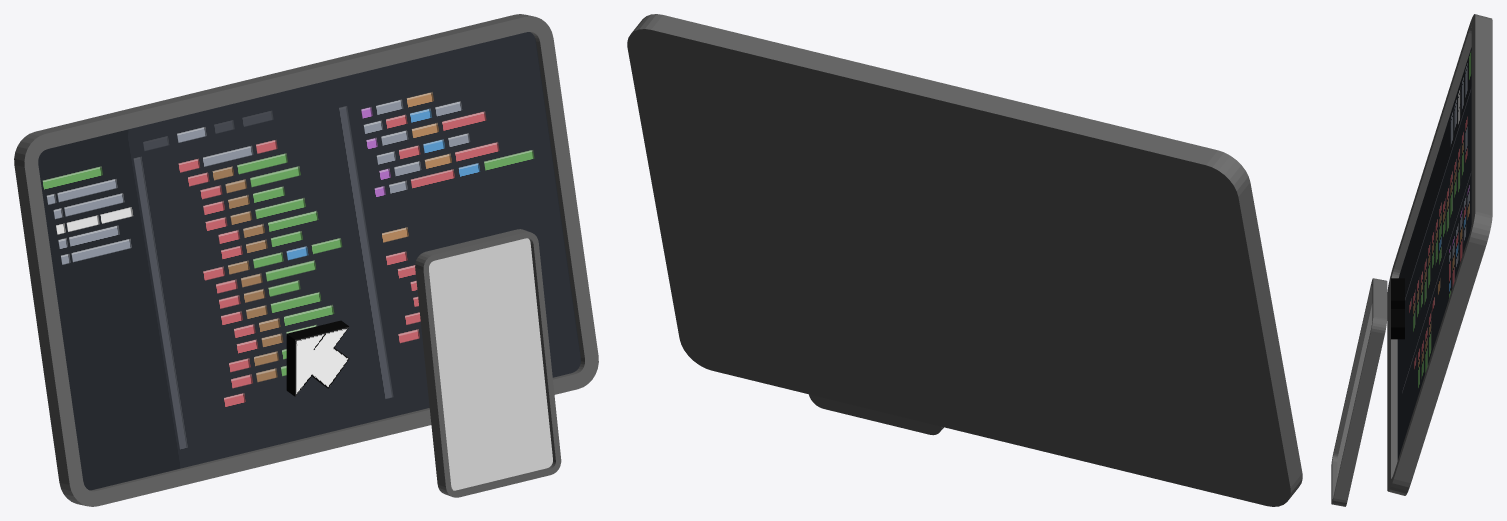
File: all2.glb
The picture shows the model from 3 angles, left to right: view 1: azimuth 30°, elevation 25°; view 2: azimuth 150°, elevation 25°; view 3: azimuth 270°, elevation 25°; orthographic projection. The views are drawn at different scales.
Visible parts, largest first — view 1: screen, phone, cursor; view 2: screen, phone; view 3: screen, phone, cursor.
Boxes of the visible parts, x1,y1,x2,y2 form: screen: [14, 14, 598, 506]; phone: [415, 229, 561, 497]; cursor: [286, 320, 349, 396]; screen: [627, 14, 1302, 506]; phone: [809, 394, 943, 435]; screen: [1387, 14, 1492, 495]; phone: [1331, 278, 1387, 506]; cursor: [1391, 278, 1404, 339].
Size of the model in its own units: 4.84 by 3.35 by 1.53.
Materials: 5 (2 with a texture image).
